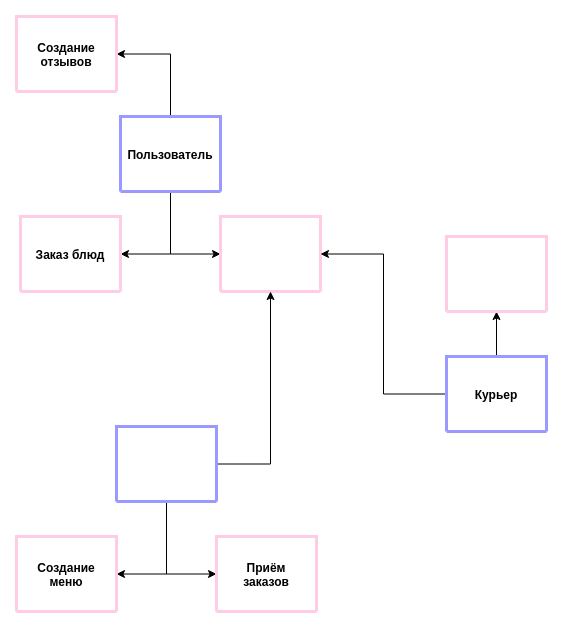
Some shapes in this 563 by 628 pixel diagram are drawn without their labels. Each missing label, with the centre of its shape:
"Получение заказов" belongs at [496,273].
"Регистрация" belongs at [270,253].
"Ресторан" belongs at [166,463].
